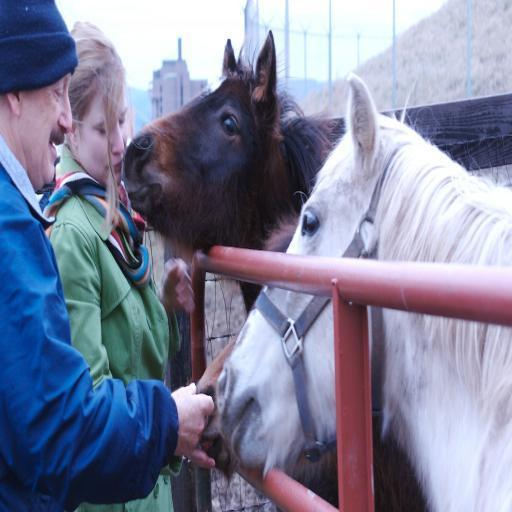horse: (122, 28, 430, 511), (214, 72, 512, 512)
